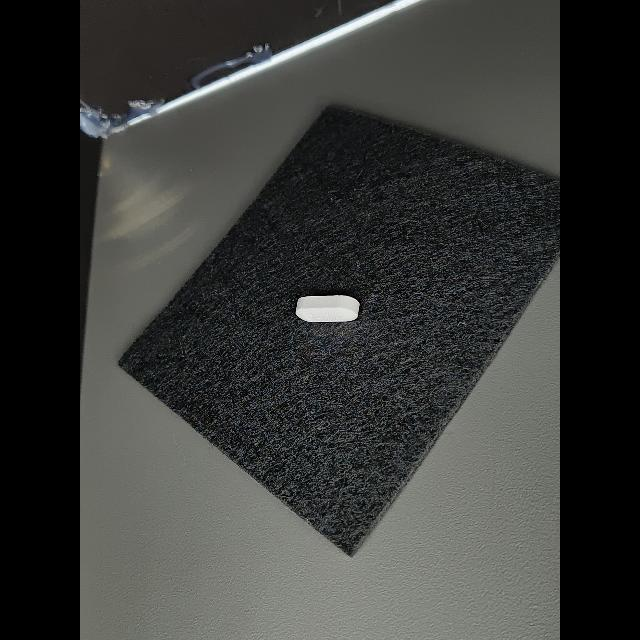Intact Pill: (296, 295, 360, 322)
